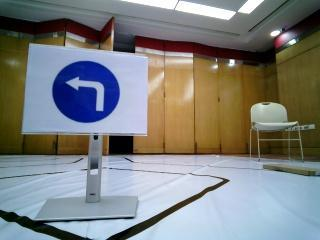left: (49, 54, 130, 124)
